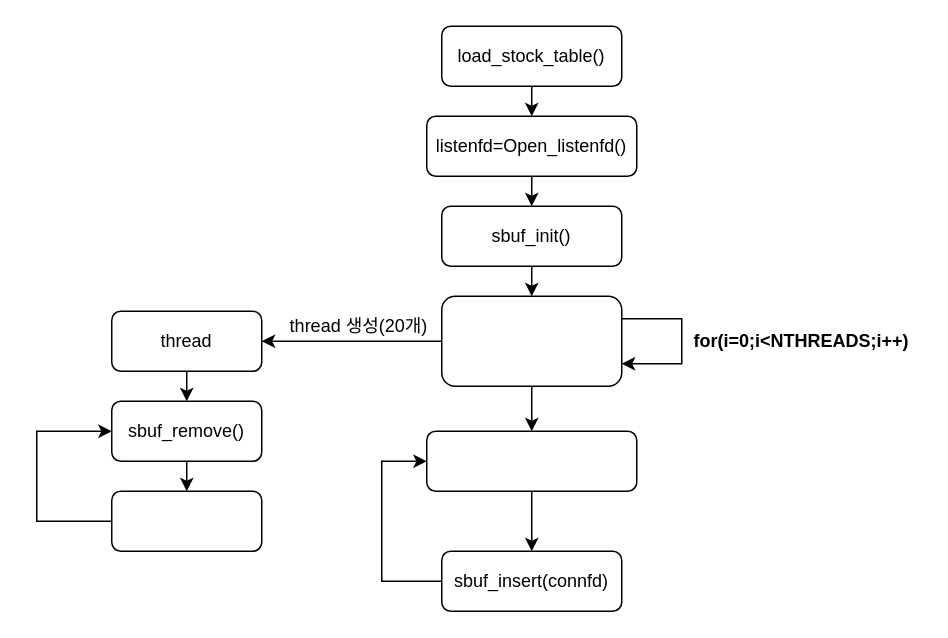
Some shapes in this 948 by 638 pixel diagram are drawn without their labels. Each missing label, with the box of its shape:
connfd=Accept(listenfd): (425, 430, 637, 491)
echo(): (110, 490, 262, 551)
Pthread_create(): (440, 295, 622, 386)
